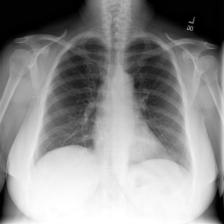normal: (27, 31, 196, 174)
